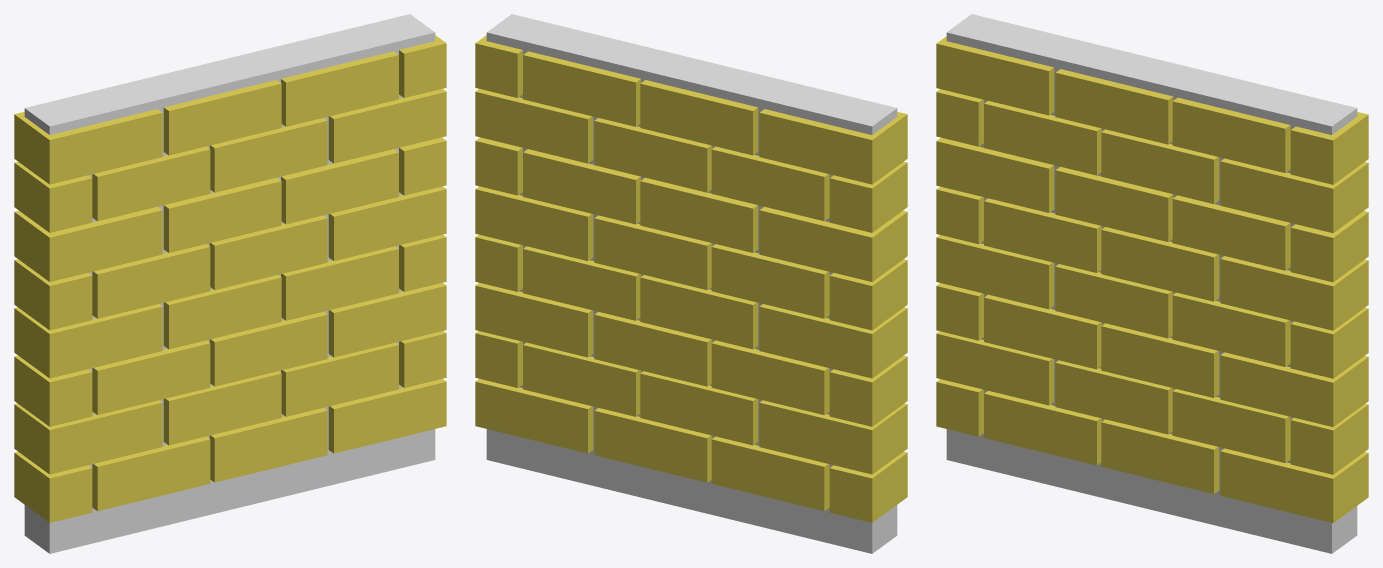
Rendered from duvar 2.2.3.fbx.
3 renders of one model, left to right at view 1: azimuth 30°, elevation 25°; view 2: azimuth 150°, elevation 25°; view 3: azimuth 330°, elevation 25°, orthographic.
Parts seen in each view (by area): view 1: tugla_grubu_8; view 2: tugla_grubu_8; view 3: tugla_grubu_8.
Boxes of the visible parts, x1,y1,x2,y2 form: tugla_grubu_8: [14, 14, 446, 553]; tugla_grubu_8: [475, 14, 907, 553]; tugla_grubu_8: [936, 14, 1368, 553].
Bounding box in the file's own units: 1234 × 1269 × 191.
